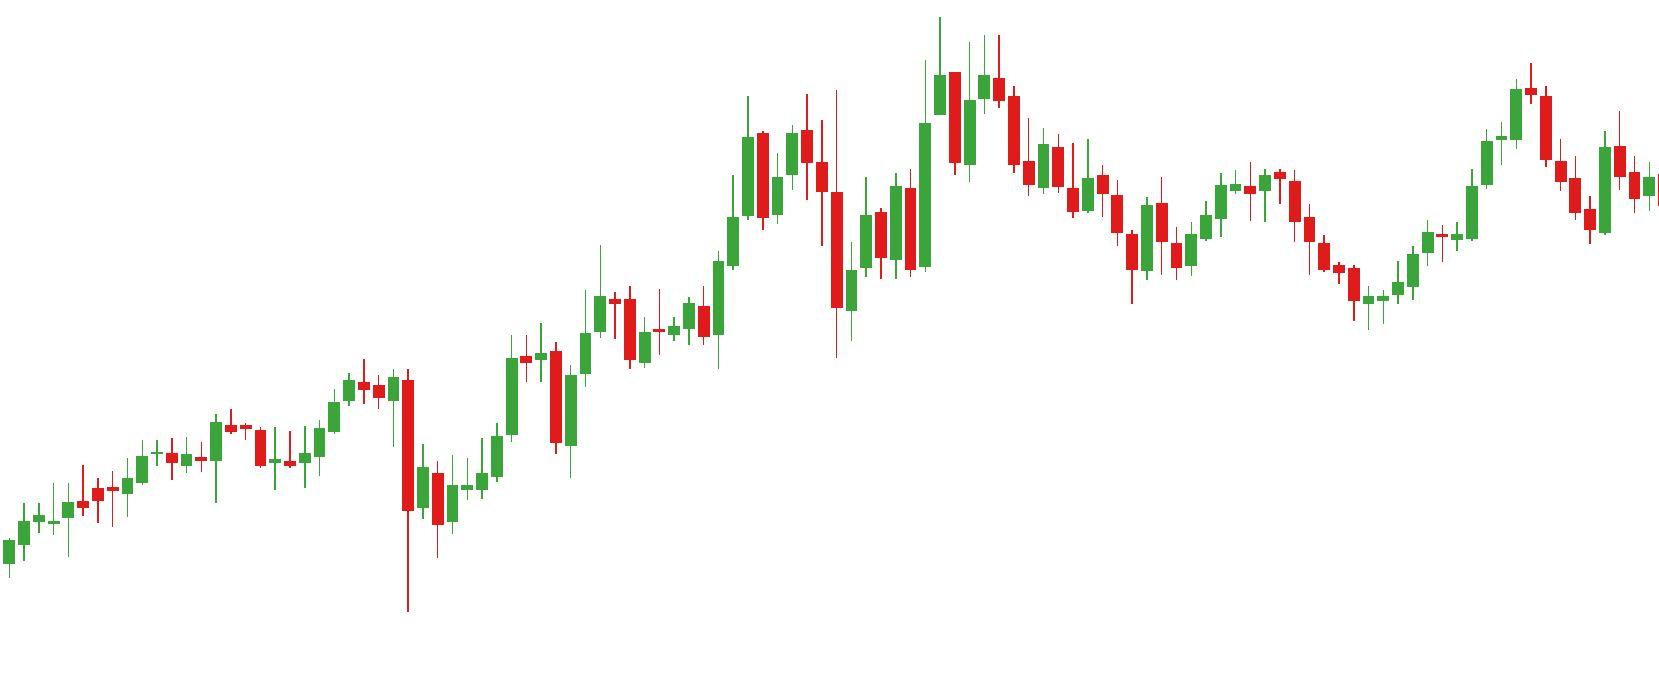buy: (1124, 203, 1392, 336), (268, 406, 432, 622)
sell: (829, 18, 964, 224)
